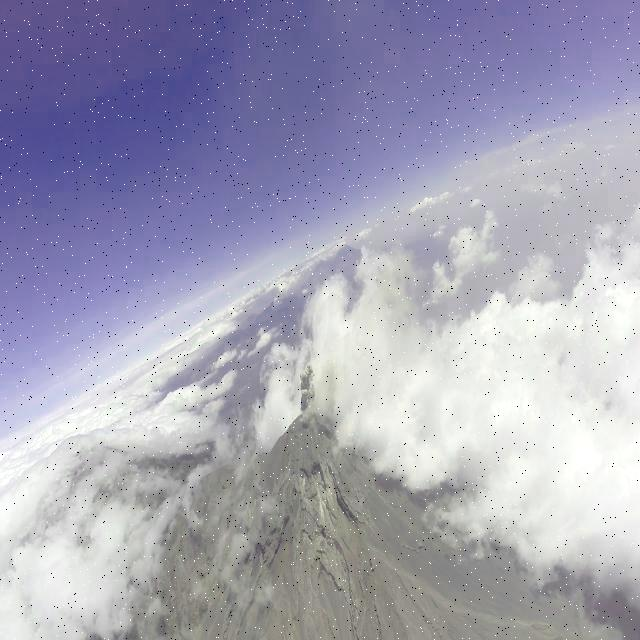Plume: (298, 359, 316, 420)
Summit: (246, 411, 342, 533)
